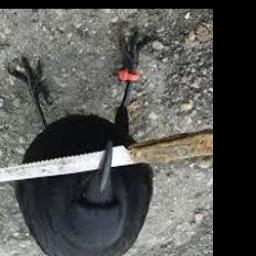Crow: (5, 30, 159, 256)
